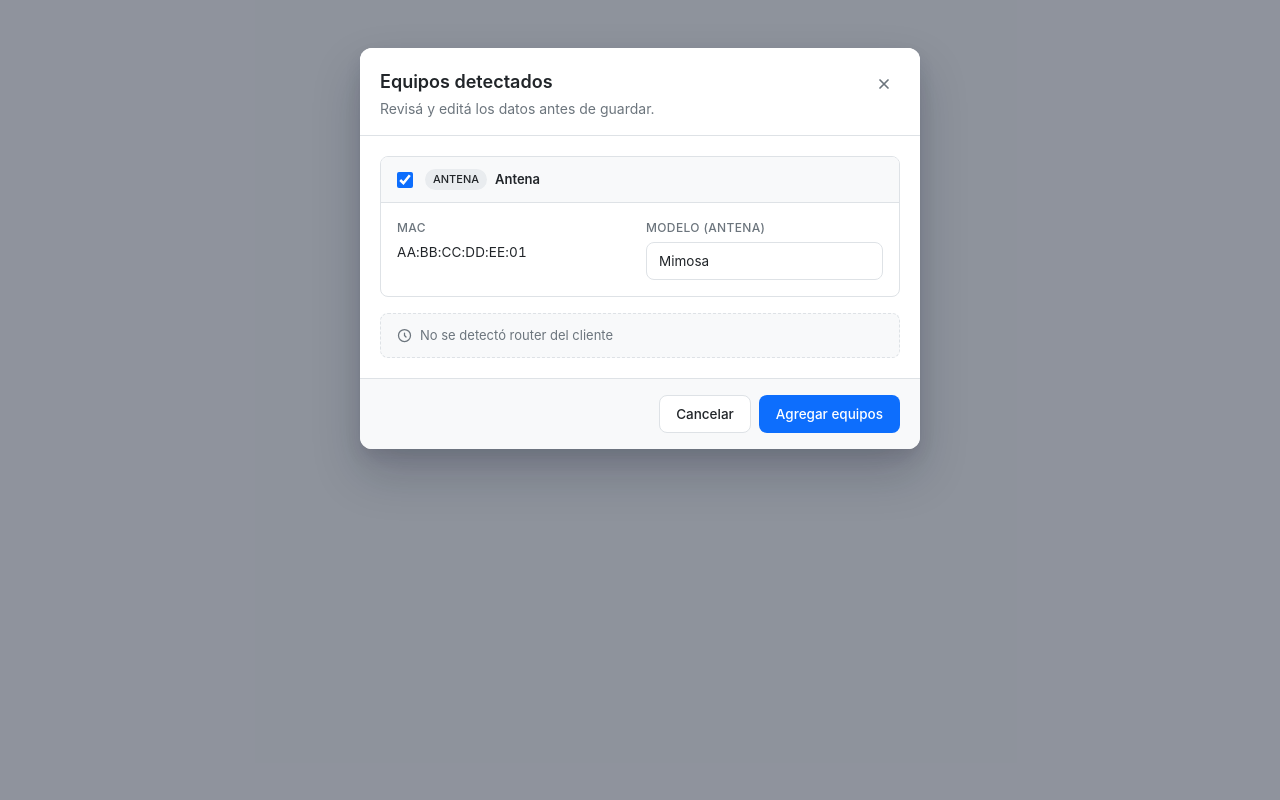
Test: AddByPppoeReviewModal › 200 enriched → summary says "datos completados" on the existing item, NOT "agregado nuevo"
This screenshot has width=1280, height=800.
Click the button "Agregar equipos": click(829, 414) [759,395,900,433]
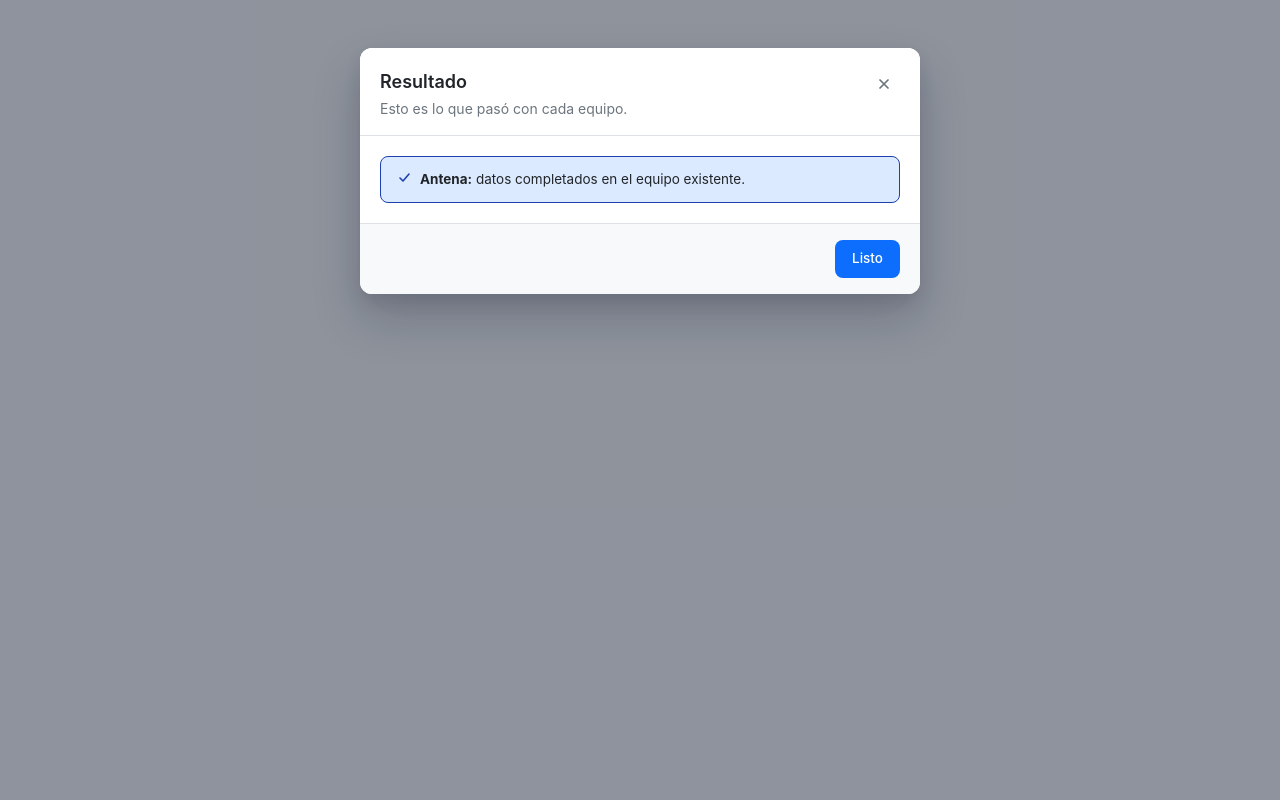
expect the text "Antena: datos completados en el equipo existente." is shown: met, box [420,169,745,190]
